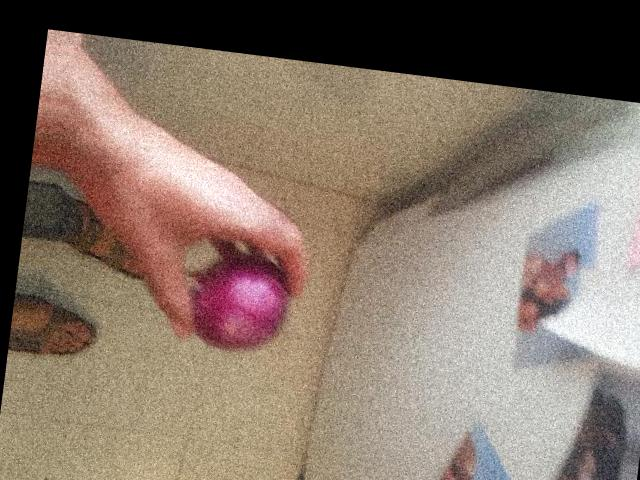onion: (168, 235, 304, 363)
